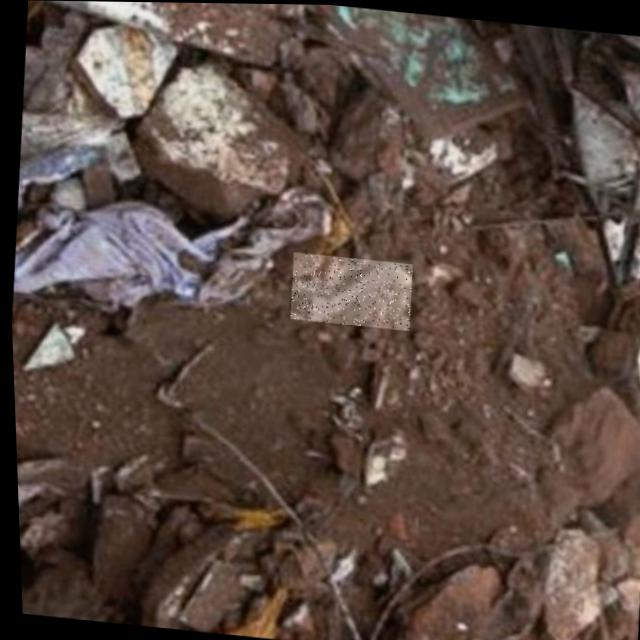Person in Rubble: (285, 251, 411, 329)
